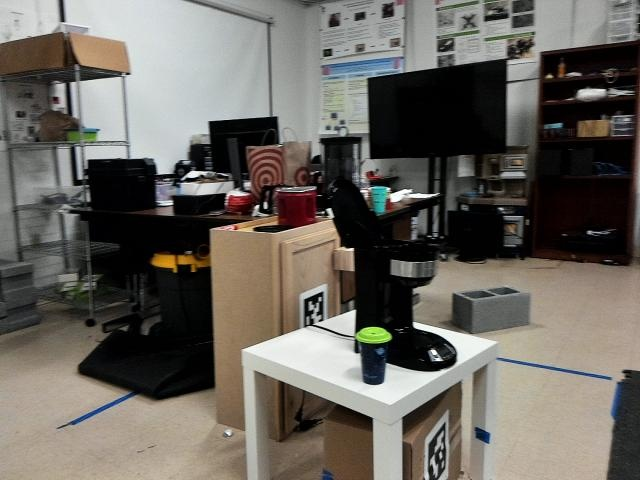coffee_cup: (369, 186, 391, 217)
useless_cup: (354, 325, 392, 388)
